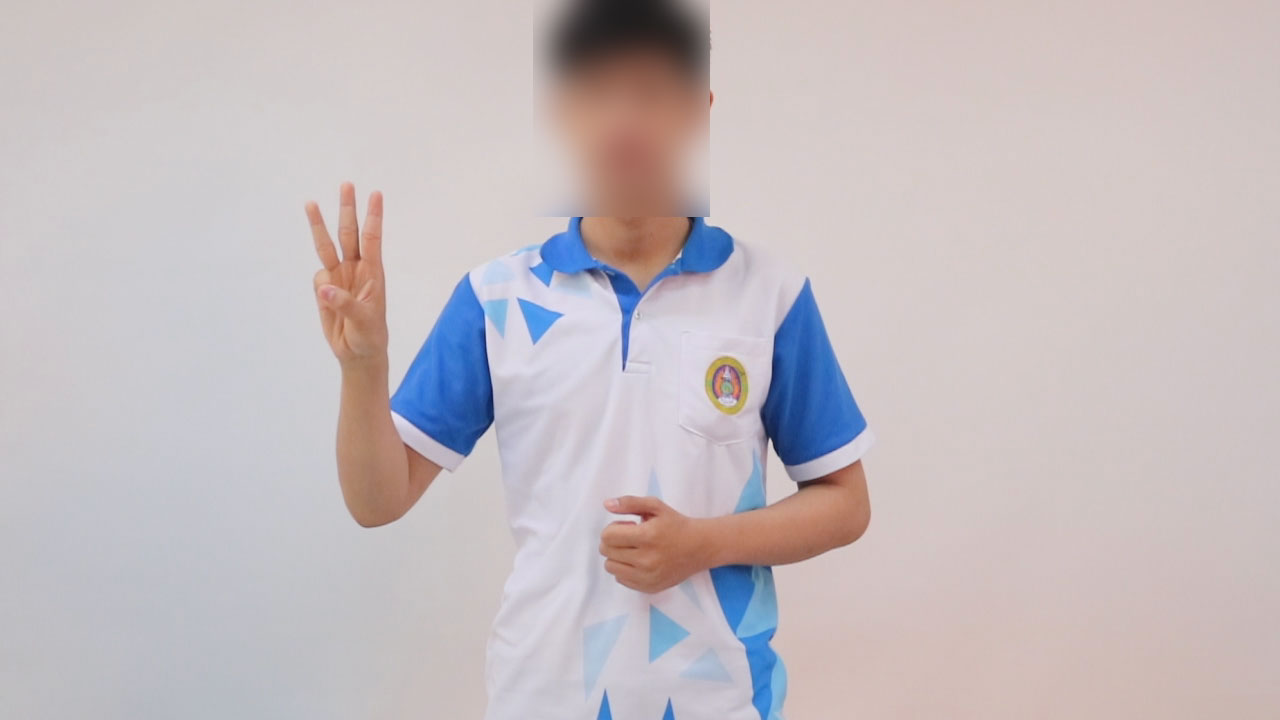wor: (296, 174, 404, 366)
